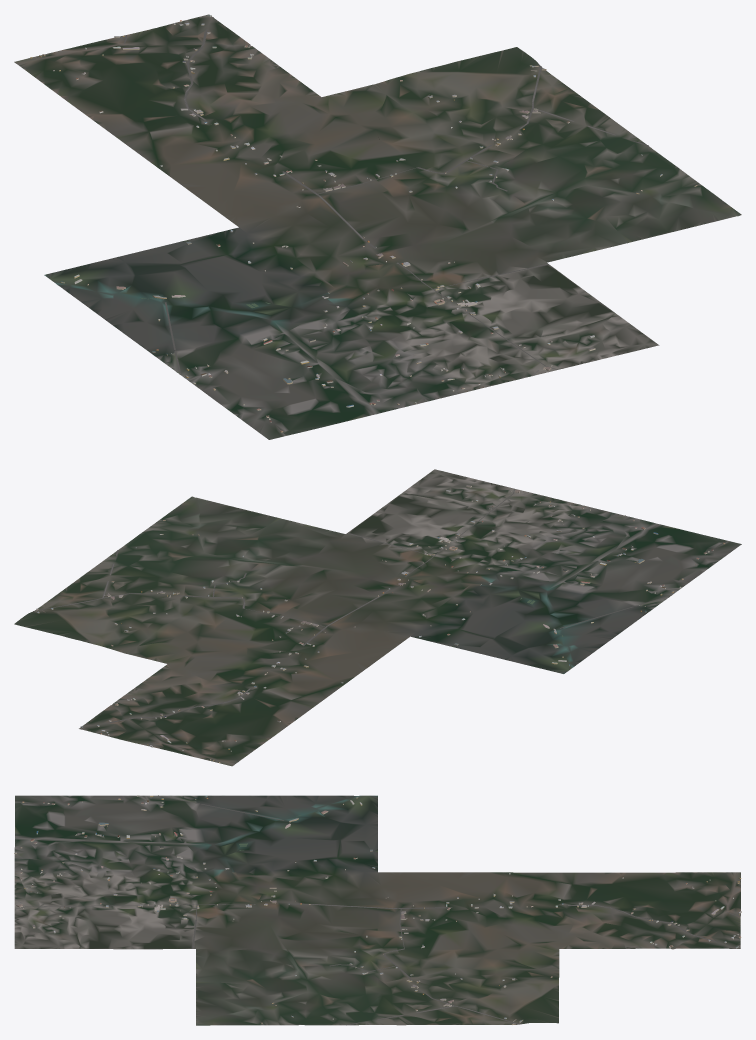
3 renders of one model, top to bottom at view 1: azimuth 30°, elevation 25°; view 2: azimuth 150°, elevation 25°; view 3: azimuth 270°, elevation 25°, orthographic. The views are drawn at different scales.
Visible parts, largest first — view 1: ground, buildings, roads; view 2: ground, buildings, roads; view 3: ground, buildings, roads.
Boxes of the visible parts, bbox=[...] form: ground: bbox=[14, 14, 741, 439]; buildings: bbox=[30, 15, 697, 432]; roads: bbox=[123, 17, 648, 376]; ground: bbox=[14, 469, 741, 766]; buildings: bbox=[35, 485, 725, 763]; roads: bbox=[33, 488, 668, 745]; ground: bbox=[14, 795, 740, 1025]; buildings: bbox=[14, 795, 741, 1024]; roads: bbox=[15, 795, 740, 1025].
Size of the model in its own units: 4209 by 30.17 by 5616.
